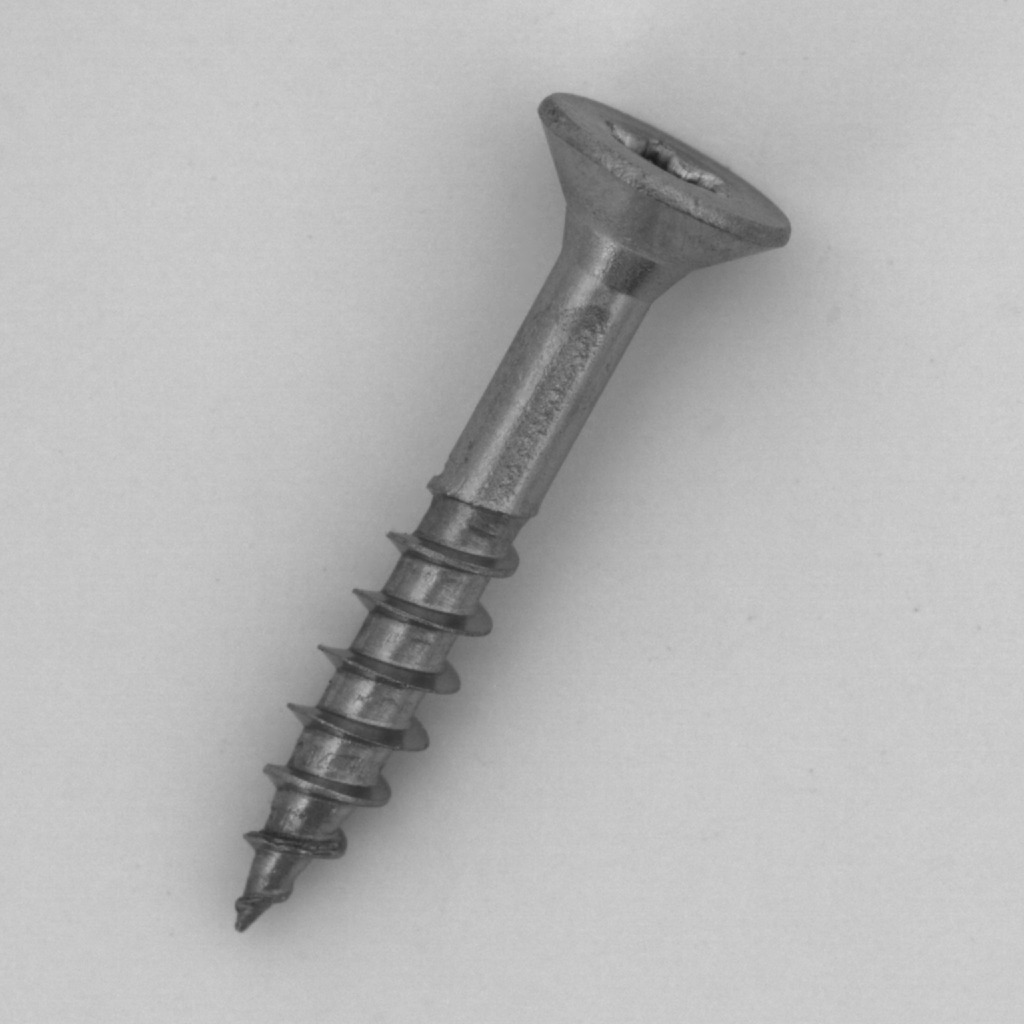good: (215, 73, 817, 951)
